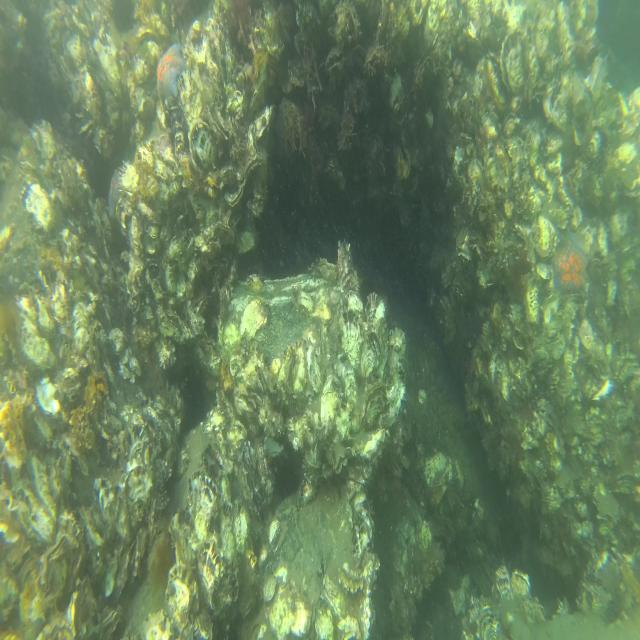echinus: (556, 233, 589, 295), (156, 43, 187, 99), (107, 169, 122, 219)
